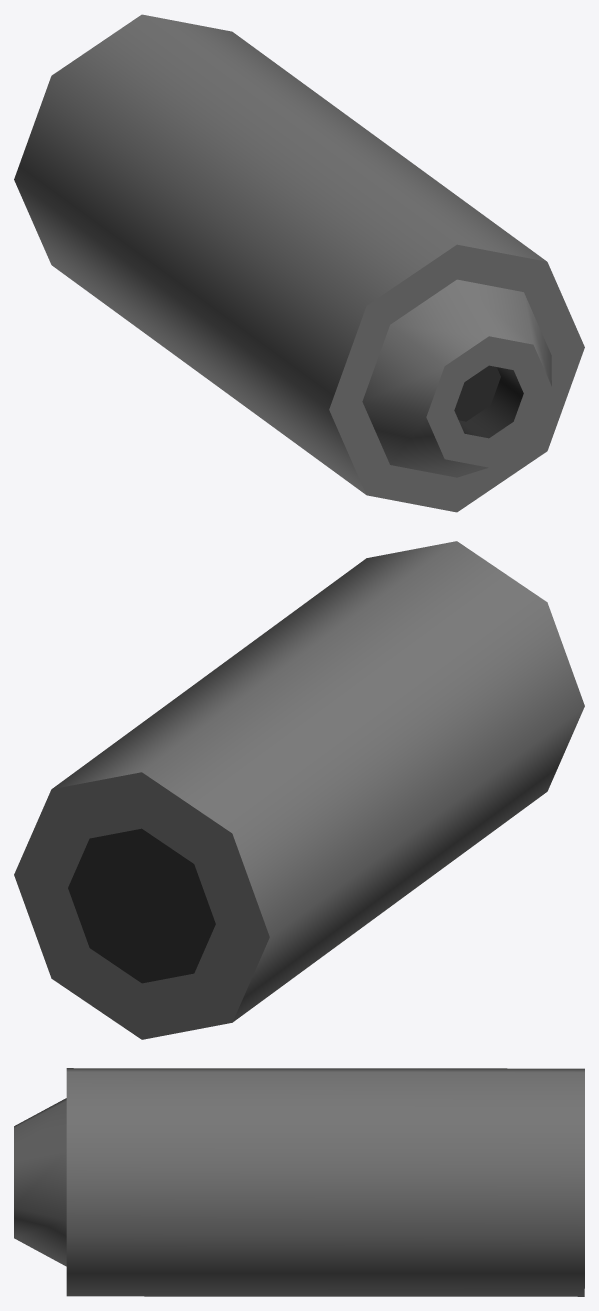
File: Exhaust_Muffler_0.fbx
3 renders of one model, top to bottom at view 1: azimuth 30°, elevation 25°; view 2: azimuth 150°, elevation 25°; view 3: azimuth 270°, elevation 25°, orthographic. The views are drawn at different scales.
Parts seen in each view (by area): view 1: Exhaust_Muffler_0; view 2: Exhaust_Muffler_0; view 3: Exhaust_Muffler_0.
Boxes of the visible parts, left/top/right/bottom form: Exhaust_Muffler_0: left=14, top=14, right=584, bottom=512; Exhaust_Muffler_0: left=14, top=541, right=584, bottom=1039; Exhaust_Muffler_0: left=14, top=1068, right=584, bottom=1296.
Bounding box in the file's own units: 25.03 × 25.07 × 58.83.
